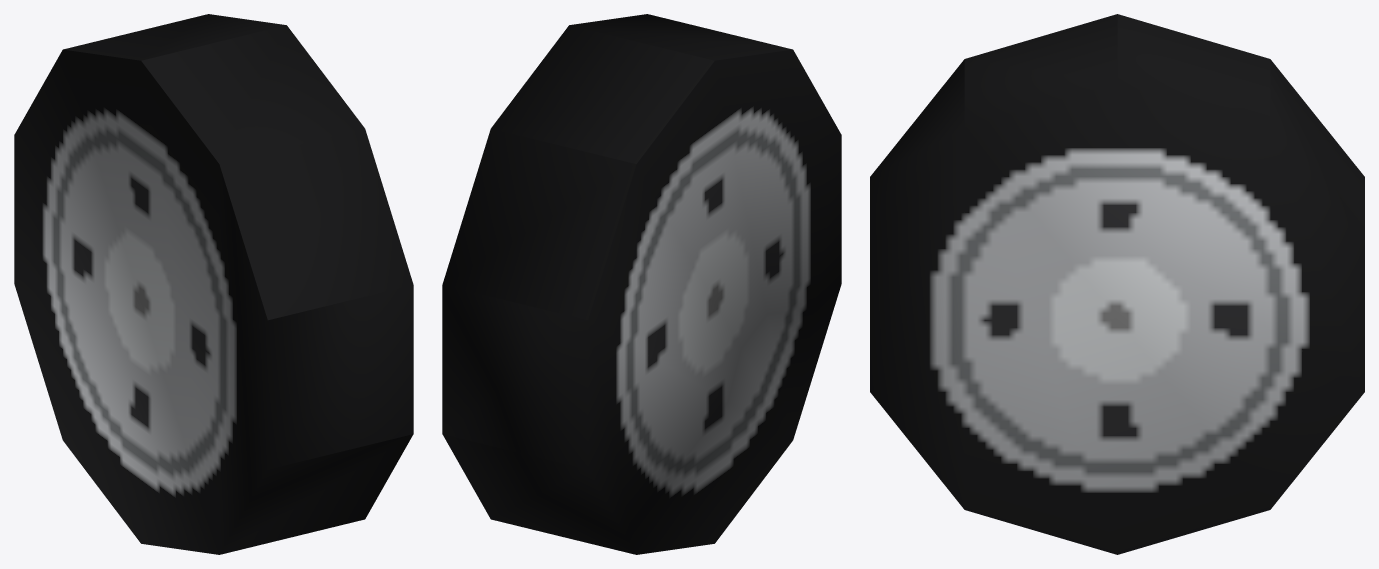
File: SM_AbandonedCar_Wheel.fbx
The picture shows the model from 3 angles, left to right: view 1: azimuth 30°, elevation 25°; view 2: azimuth 150°, elevation 25°; view 3: azimuth 270°, elevation 25°; orthographic projection. The views are drawn at different scales.
Parts seen in each view (by area): view 1: SM_AbandonedCar_Wheel; view 2: SM_AbandonedCar_Wheel; view 3: SM_AbandonedCar_Wheel.
Boxes of the visible parts, x1,y1,x2,y2 form: SM_AbandonedCar_Wheel: (14, 14, 413, 554); SM_AbandonedCar_Wheel: (442, 14, 841, 554); SM_AbandonedCar_Wheel: (870, 14, 1364, 554).
Size of the model in its own units: 18 by 57 by 54.21.
1 material, 1 textured.
